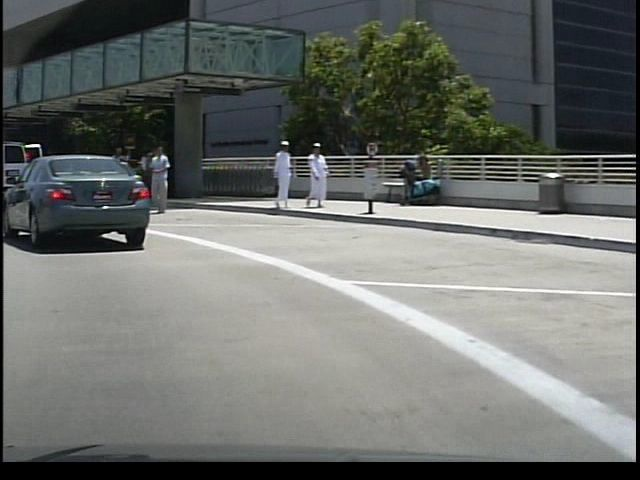person: (143, 139, 175, 221), (266, 136, 295, 213), (300, 139, 328, 211)
